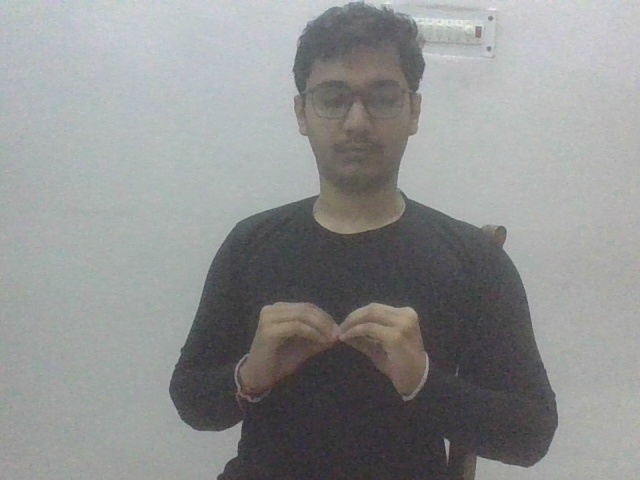B: (238, 294, 434, 403)
